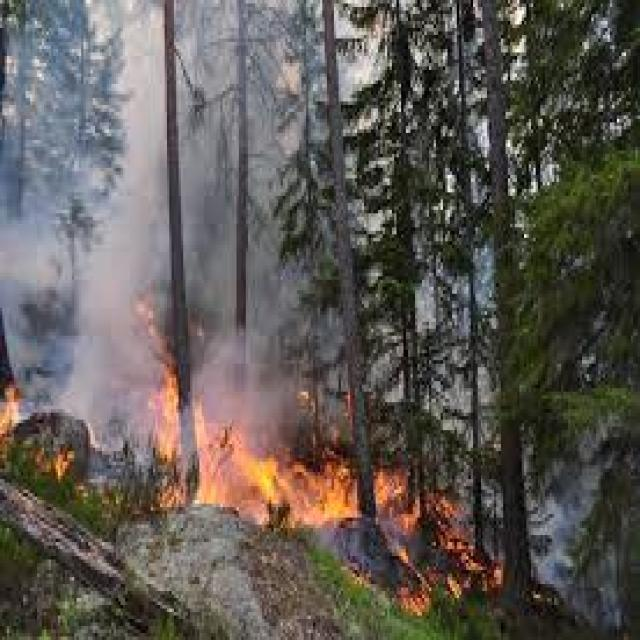Fire: (115, 294, 484, 609), (40, 438, 81, 486), (0, 381, 21, 434)
Smoke: (3, 0, 353, 453)
